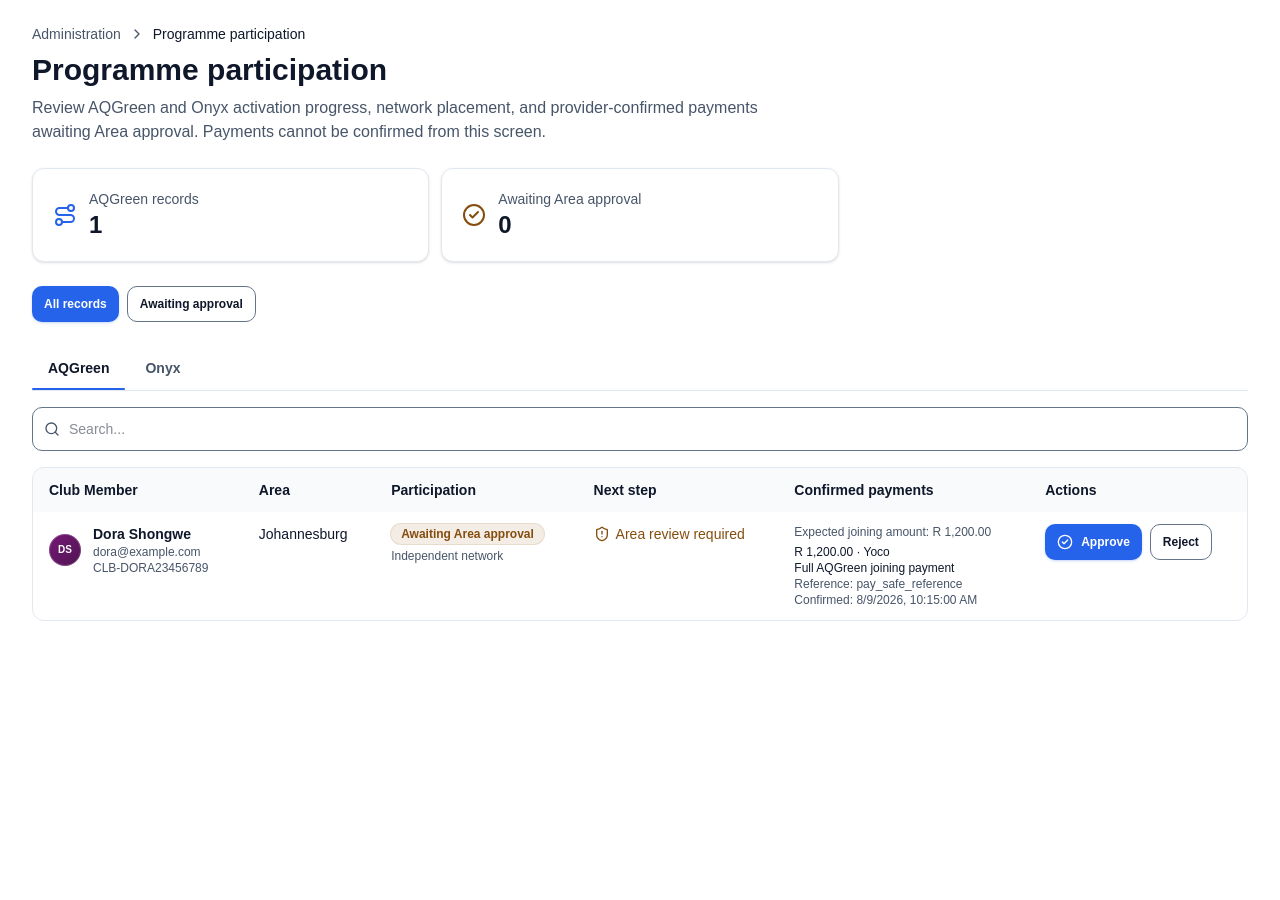
it: AdminProgrammeParticipations › lists confirmed payments awaiting Area approval and approves one
The image size is (1280, 900).
Expected: the text "Awaiting Area approval" in the row of "Dora Shongwe" is shown, [401,527,534,541]
Expected: the text "Area review required" is shown, [594,524,745,544]
Click the button "Approve" at (1094, 542), box [1045,524,1142,560]
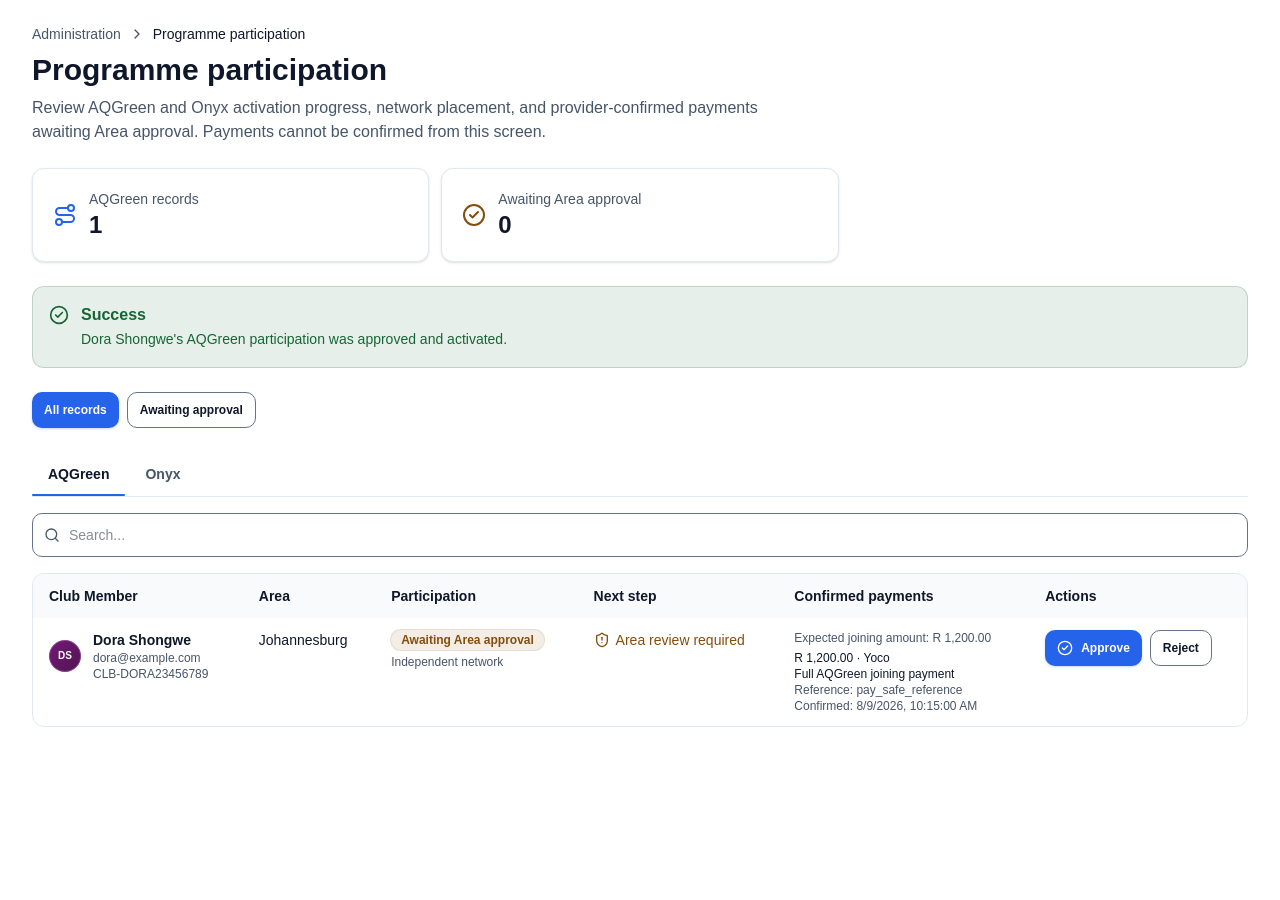
Expected: the text "participation was approved and activated" is shown, [81,331,507,347]
